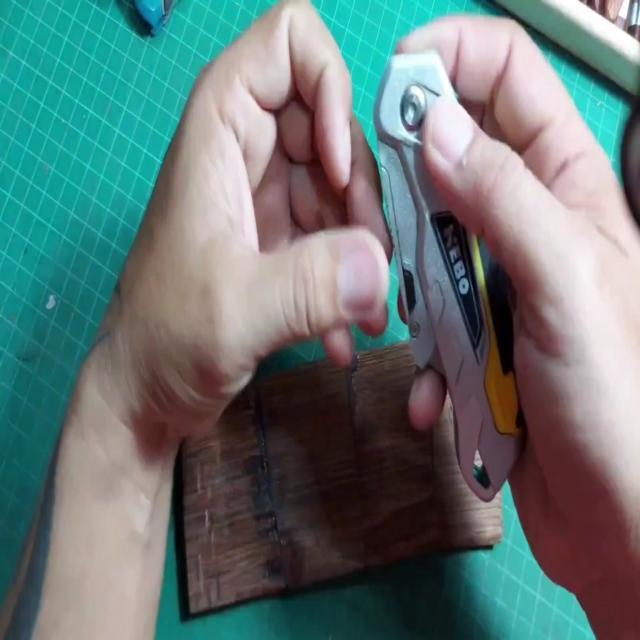cutter: (379, 14, 640, 618)
